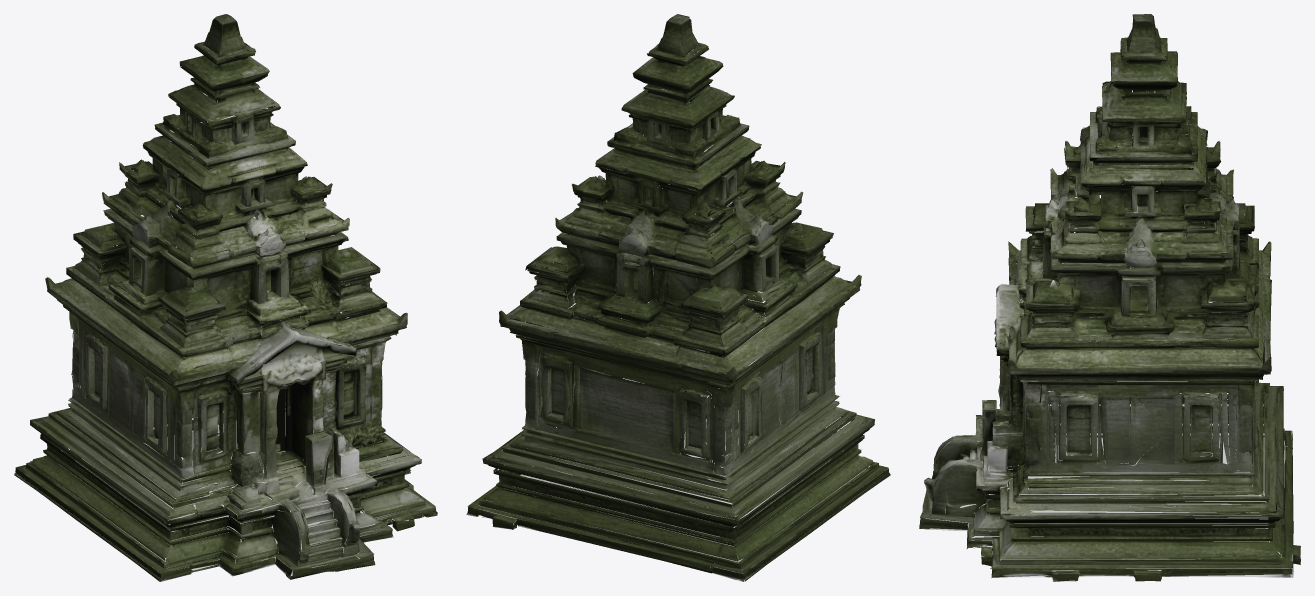
The model's file is Temple.glb.
3 views of the same model, side by side, from view 1: azimuth 30°, elevation 25°; view 2: azimuth 150°, elevation 25°; view 3: azimuth 270°, elevation 25° (orthographic). The views are drawn at different scales.
Parts seen in each view (by area): view 1: temple; view 2: temple; view 3: temple.
Part boxes in pixels (x1=…): temple: x1=14, y1=14, x2=437, y2=581; temple: x1=466, y1=14, x2=890, y2=581; temple: x1=919, y1=14, x2=1300, y2=581.
Bounding box in the file's own units: 0.8477 × 1.37 × 0.958.
Materials: 1 (1 with a texture image).
